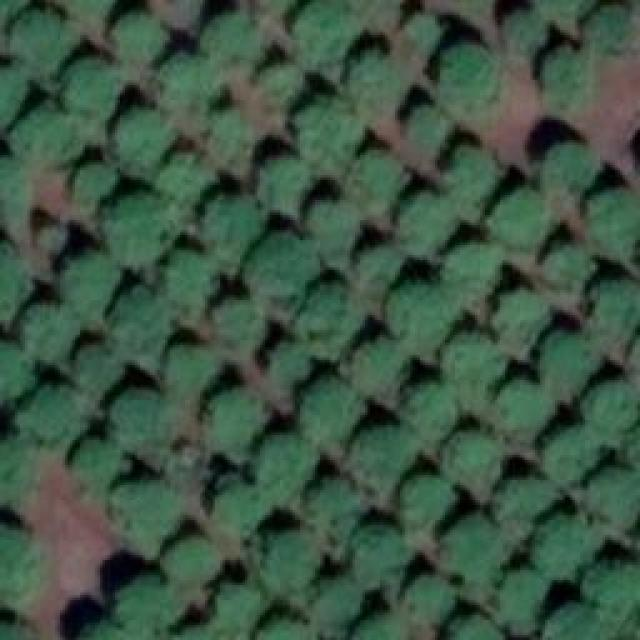Tree: (253, 235, 323, 308), (105, 193, 173, 266), (113, 483, 183, 553), (445, 520, 508, 593), (448, 45, 508, 120), (113, 107, 176, 175), (533, 510, 596, 578), (15, 110, 88, 168), (355, 425, 415, 495), (445, 335, 503, 405), (305, 95, 363, 163), (257, 535, 315, 603), (490, 190, 555, 250), (310, 480, 365, 550), (110, 293, 170, 356), (205, 390, 265, 453), (300, 378, 360, 441), (390, 280, 450, 343), (488, 288, 551, 348), (305, 285, 363, 350), (585, 465, 640, 533), (15, 10, 73, 73), (168, 340, 221, 408), (203, 13, 263, 73), (158, 55, 218, 115), (490, 380, 550, 440), (210, 190, 265, 255), (348, 150, 408, 208), (295, 3, 350, 66), (587, 190, 640, 255), (65, 57, 123, 115), (60, 255, 118, 313), (108, 395, 168, 450), (543, 338, 598, 398), (578, 555, 638, 610), (20, 388, 78, 443), (123, 580, 178, 638), (313, 572, 368, 630), (260, 433, 313, 493), (448, 245, 501, 305), (538, 430, 601, 480), (545, 48, 593, 113), (215, 477, 268, 535), (400, 385, 458, 438), (403, 195, 458, 250), (0, 533, 45, 598), (23, 310, 76, 365), (168, 255, 221, 310), (353, 340, 406, 395), (405, 475, 455, 533), (208, 303, 261, 356), (540, 245, 593, 298), (448, 433, 501, 486), (350, 50, 400, 105), (310, 198, 360, 253), (355, 528, 410, 578), (585, 3, 635, 58), (595, 280, 640, 340), (260, 153, 313, 203), (545, 145, 598, 195), (585, 383, 638, 433), (495, 475, 548, 525), (450, 145, 498, 200), (497, 570, 545, 625), (72, 438, 120, 491), (400, 582, 453, 630), (70, 348, 120, 398), (213, 585, 258, 640), (115, 12, 165, 60), (170, 537, 220, 585), (358, 245, 403, 295), (403, 105, 448, 153), (68, 165, 118, 208), (212, 105, 250, 160), (0, 434, 32, 497), (550, 600, 600, 640), (0, 248, 30, 313), (0, 343, 30, 406), (507, 10, 545, 58), (255, 70, 300, 110), (163, 160, 208, 200), (268, 338, 308, 383), (0, 65, 28, 128), (255, 615, 323, 640), (538, 0, 601, 25), (405, 10, 443, 50), (447, 615, 505, 640), (0, 160, 25, 213), (350, 620, 410, 640), (622, 418, 640, 483), (62, 0, 120, 20), (350, 0, 408, 20), (255, 0, 308, 20), (450, 0, 497, 22), (33, 225, 66, 255), (0, 0, 25, 38), (0, 617, 40, 640), (80, 622, 130, 640), (172, 0, 207, 22)
